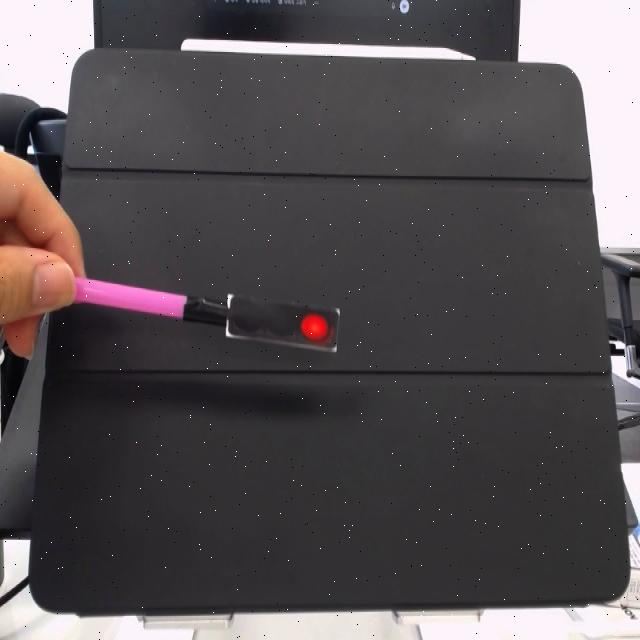traffic light: (223, 295, 341, 356)
